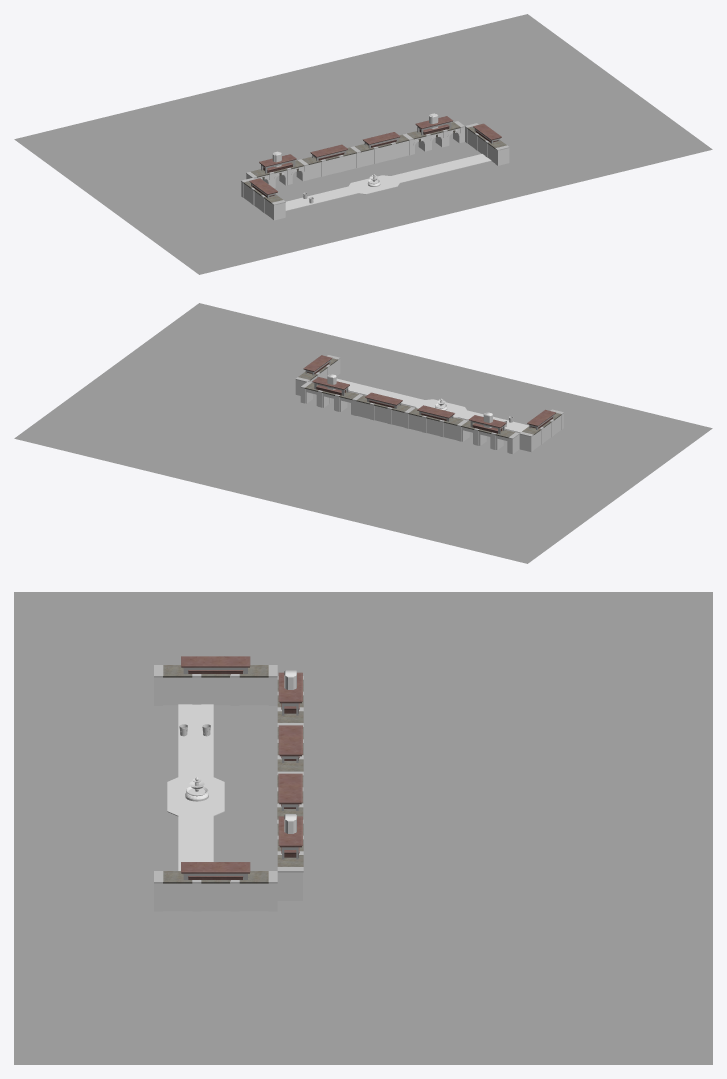
Rendered from wopwop.fbx.
3 views of the same model, one above another, from view 1: azimuth 30°, elevation 25°; view 2: azimuth 150°, elevation 25°; view 3: azimuth 270°, elevation 25° (orthographic). The views are drawn at different scales.
Visible parts, largest first — view 1: pPlane5, pCube643; view 2: pPlane5, pCube643; view 3: pPlane5, pCube643, pCube709 (×2), pCube706 (×2), pCube712 (×2), slabmaintextures_pCube442 (×2), slabmaintextures_pCube439, slabmaintextures_pCube436, pCube670.
Boxes of the visible parts, x1=… form: pPlane5: x1=14, y1=14, x2=712, y2=274; pCube643: x1=285, y1=154, x2=491, y2=210; pPlane5: x1=14, y1=303, x2=712, y2=563; pCube643: x1=336, y1=378, x2=528, y2=432; pPlane5: x1=14, y1=592, x2=712, y2=1064; pCube643: x1=167, y1=704, x2=224, y2=870; pCube709 (×2): x1=239, y1=677, x2=268, y2=911; pCube706 (×2): x1=201, y1=677, x2=230, y2=911; pCube712 (×2): x1=163, y1=677, x2=192, y2=911; slabmaintextures_pCube442 (×2): x1=181, y1=656, x2=250, y2=873; slabmaintextures_pCube439: x1=278, y1=773, x2=302, y2=804; slabmaintextures_pCube436: x1=278, y1=725, x2=302, y2=756; pCube670: x1=277, y1=872, x2=302, y2=900.
Bounding box in the file's own units: 4221 × 249 × 2638.
